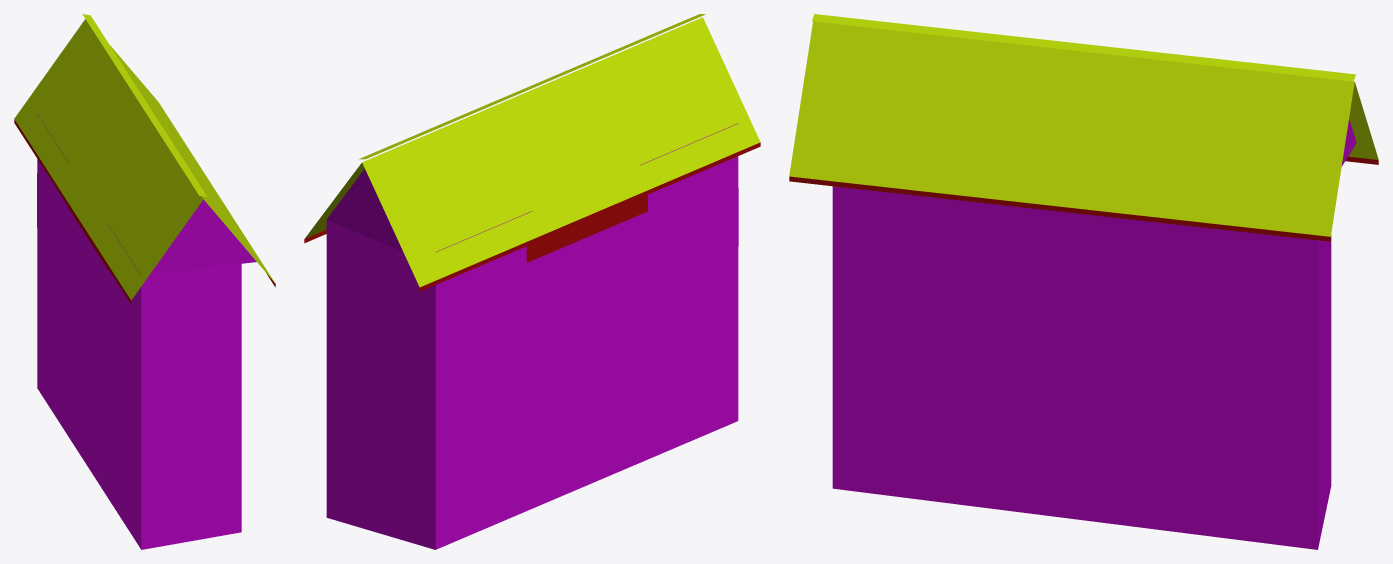
The model's file is bgj_373.glb.
3 views of the same model, side by side, from view 1: azimuth 30°, elevation 25°; view 2: azimuth 150°, elevation 25°; view 3: azimuth 270°, elevation 25° (orthographic). The views are drawn at different scales.
Visible parts, largest first — view 1: bgj_373; view 2: bgj_373; view 3: bgj_373.
Boxes of the visible parts, bbox=[...] form: bgj_373: bbox=[14, 14, 275, 549]; bgj_373: bbox=[304, 14, 760, 549]; bgj_373: bbox=[789, 14, 1378, 549].
Bounding box in the file's own units: 7.17 × 10.83 × 13.02.
